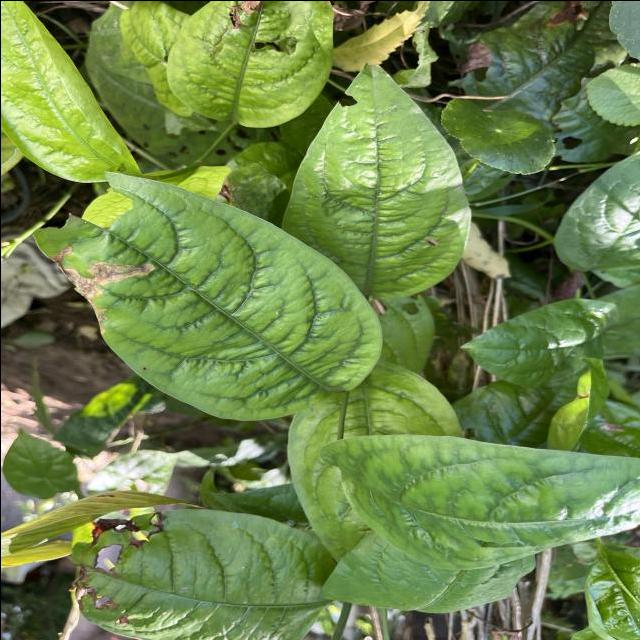Plumbago indica: (30, 166, 387, 427), (280, 55, 474, 303), (324, 421, 640, 573)
